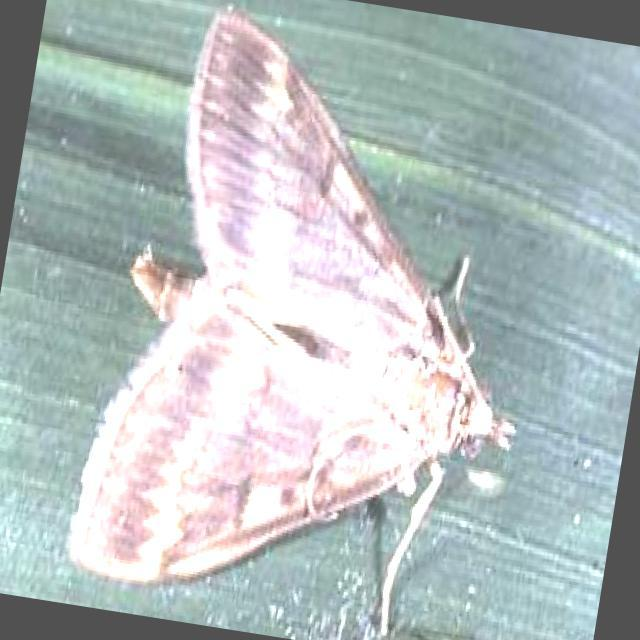stem borer: (70, 9, 513, 582)
